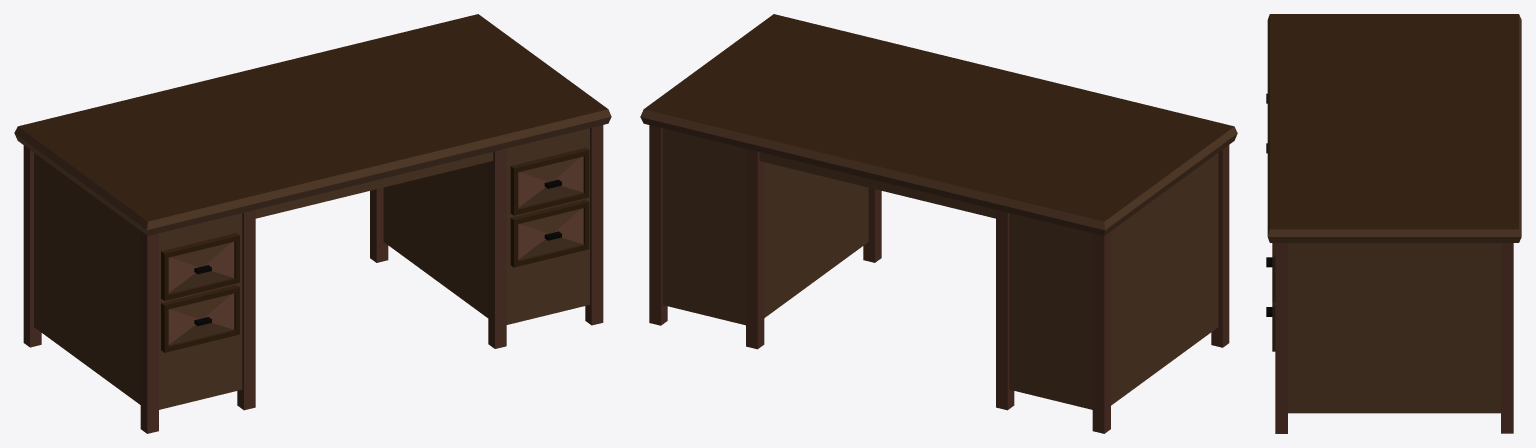
Rendered from Furnit 3 Desk.glb.
3 renders of one model, left to right at view 1: azimuth 30°, elevation 25°; view 2: azimuth 150°, elevation 25°; view 3: azimuth 270°, elevation 25°, orthographic. The views are drawn at different scales.
Parts seen in each view (by area): view 1: Furnit 3 Desk; view 2: Furnit 3 Desk; view 3: Furnit 3 Desk.
Boxes of the visible parts, x1,y1,x2,y2 form: Furnit 3 Desk: (14,14,611,433); Furnit 3 Desk: (640,14,1237,433); Furnit 3 Desk: (1266,14,1521,433).
Size of what is drawn, in the model's own units: 2.49 by 1.1 by 1.24.
1 material, 1 textured.
